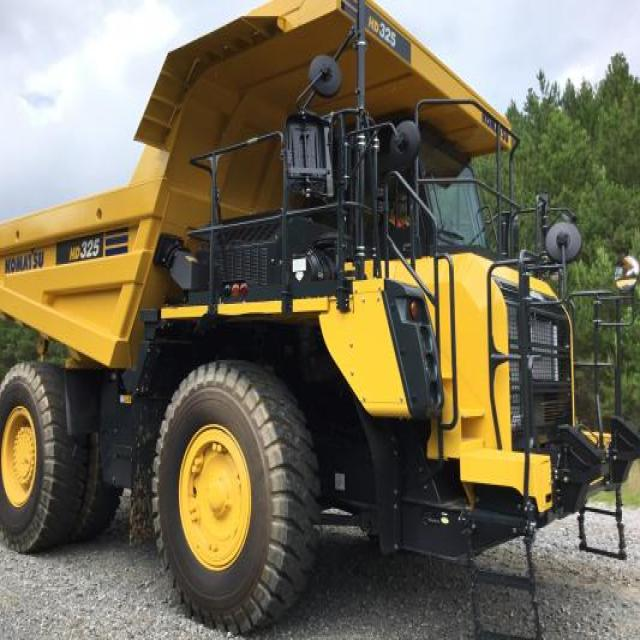dump_truck: (7, 7, 623, 626)
